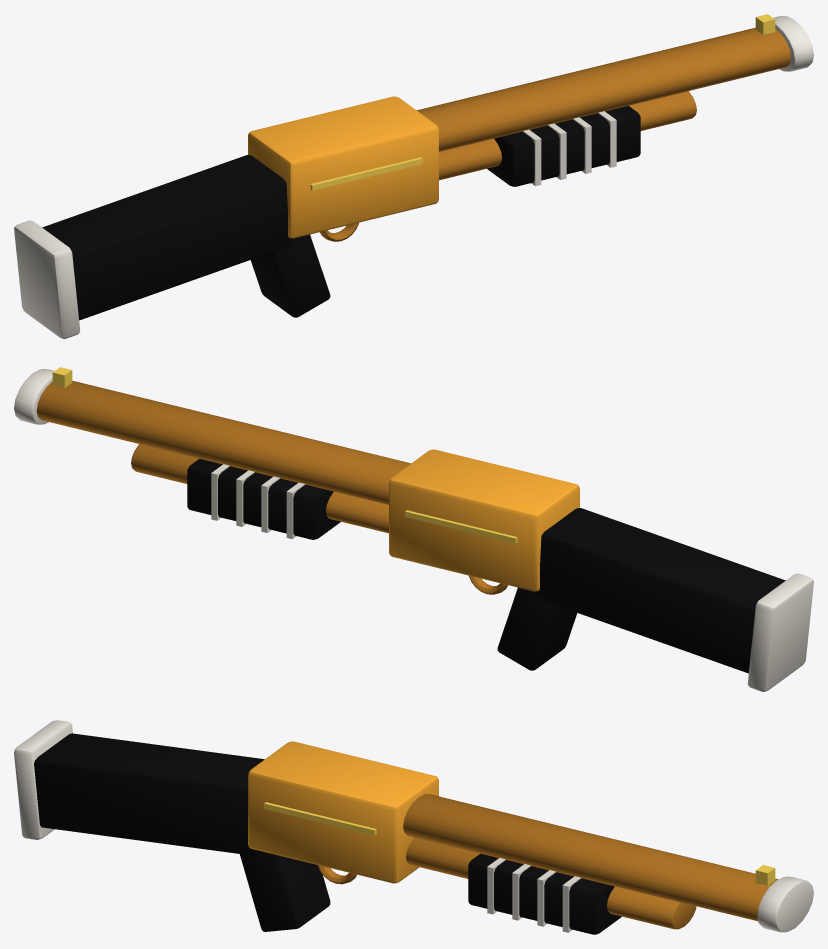
The model's file is SGP_Shotgun_Gilded.obj.
3 views of the same model, one above another, from view 1: azimuth 30°, elevation 25°; view 2: azimuth 150°, elevation 25°; view 3: azimuth 330°, elevation 25° (orthographic).
Parts seen in each view (by area): view 1: SGP_Shotgun_Gilded; view 2: SGP_Shotgun_Gilded; view 3: SGP_Shotgun_Gilded.
Boxes of the visible parts, x1,y1,x2,y2 form: SGP_Shotgun_Gilded: (14, 14, 813, 338); SGP_Shotgun_Gilded: (14, 367, 813, 691); SGP_Shotgun_Gilded: (14, 720, 813, 934).
Bounding box in the file's own units: 0.759 × 0.1617 × 0.0832.
